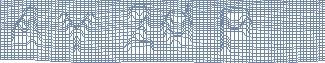2: (121, 3, 157, 56)
4: (10, 5, 44, 53)
P: (218, 6, 252, 56)
Y: (57, 10, 96, 55)
d: (159, 1, 196, 47)
